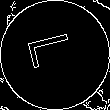L_E: (27, 34, 83, 76)
